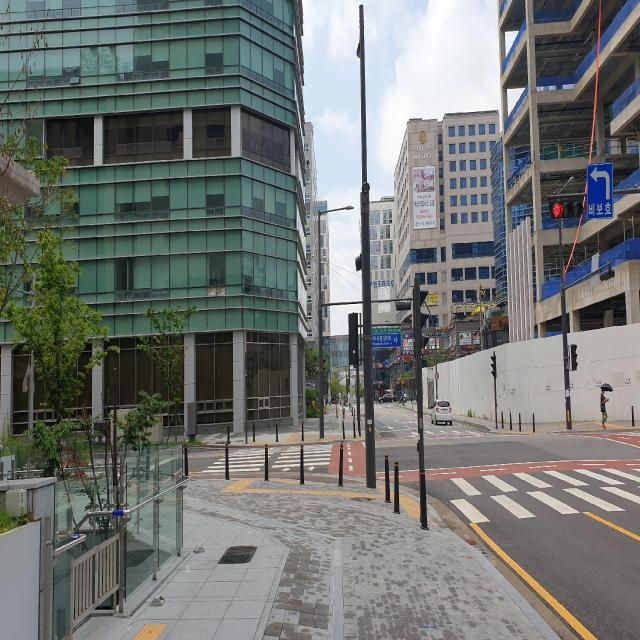횡단보도: (448, 473, 640, 510), (201, 444, 333, 473)
